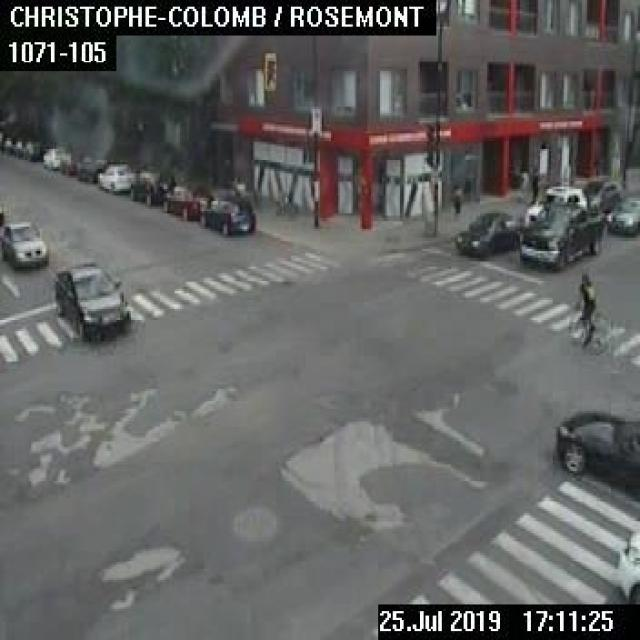cyclist: (567, 270, 603, 350)
pedestrian: (450, 183, 460, 215)
vehicle: (555, 410, 638, 493), (54, 263, 130, 342), (517, 204, 603, 266), (456, 211, 519, 257), (524, 184, 585, 228), (199, 195, 254, 234), (0, 220, 45, 266), (129, 168, 175, 205), (161, 184, 211, 218), (616, 529, 638, 602), (605, 196, 638, 235), (585, 178, 621, 208), (97, 163, 134, 192), (76, 154, 104, 180), (41, 147, 69, 168), (23, 140, 45, 159), (1, 136, 13, 152), (13, 138, 22, 155)
